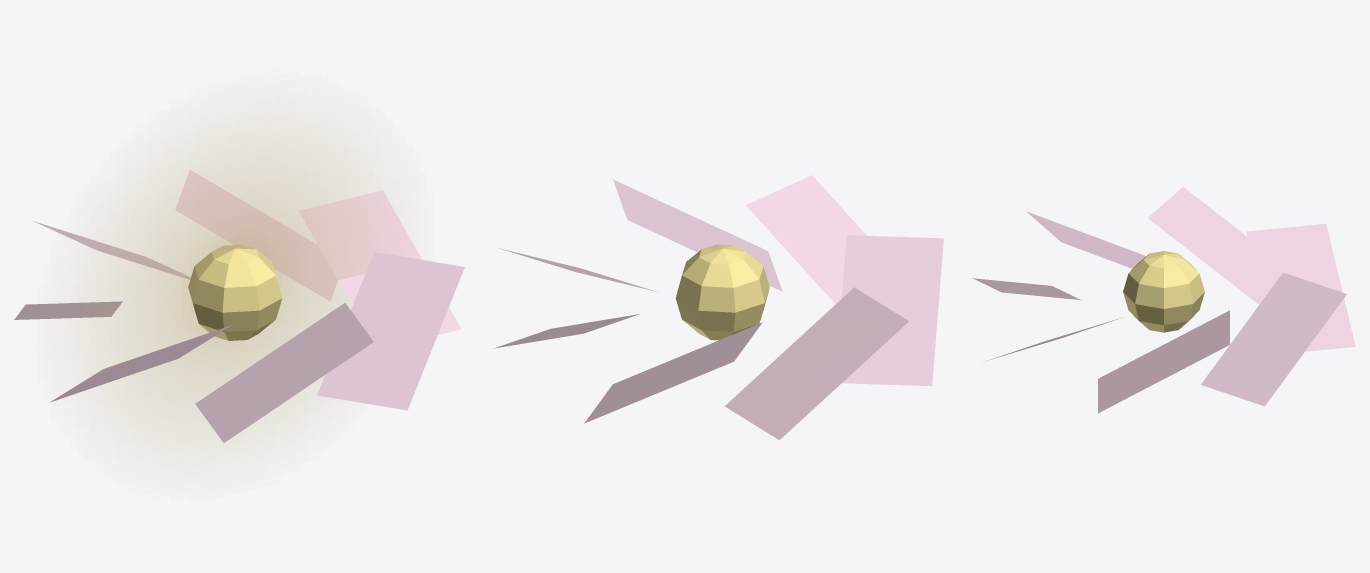
Rendered from swamp_giantFlower.glb.
The picture shows the model from 3 angles, left to right: view 1: azimuth 30°, elevation 25°; view 2: azimuth 150°, elevation 25°; view 3: azimuth 270°, elevation 25°; orthographic projection. The views are drawn at different scales.
Parts seen in each view (by area): view 1: n16, n3, n5, n13, n1, n15, n7, n9, n11; view 2: n9, n7, n5, n15, n11, n3, n13; view 3: n13, n11, n9, n15, n1, n7, n5.
Part boxes in pixels (x1,y1,x2,y2): n16: (77,116,392,455); n3: (317,252,464,410); n5: (195,303,373,442); n13: (175,169,337,301); n1: (299,190,460,334); n15: (188,244,282,340); n7: (49,325,232,402); n9: (14,301,122,319); n11: (32,220,190,279); n9: (724,287,908,440); n7: (841,235,943,386); n5: (746,175,866,304); n15: (675,244,769,340); n11: (584,322,762,423); n3: (613,179,782,291); n13: (494,314,639,348); n13: (1201,272,1346,406); n11: (1246,224,1355,351); n9: (1148,187,1262,304); n15: (1123,251,1204,332); n1: (1098,310,1229,413); n7: (1026,211,1145,268); n5: (973,278,1080,299).
Bounding box in the file's own units: 7 × 7 × 6.55.
3 materials, 1 textured.
